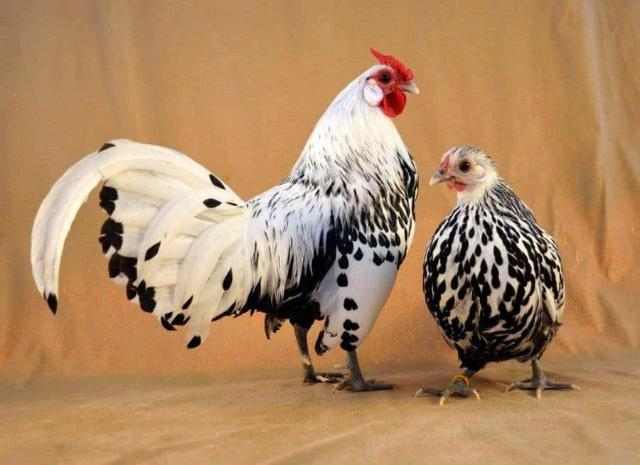Chicken: (30, 48, 419, 393), (413, 143, 582, 408)
